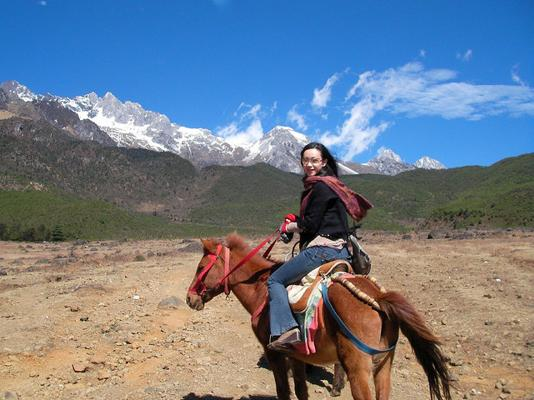person: (265, 143, 350, 352)
